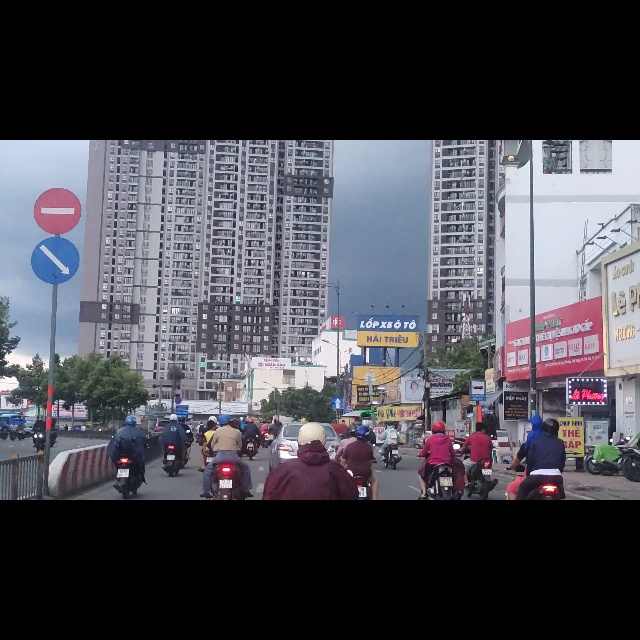bien_chi_dan: (29, 172, 82, 260), (32, 84, 84, 170), (470, 426, 486, 464), (331, 456, 345, 478)
